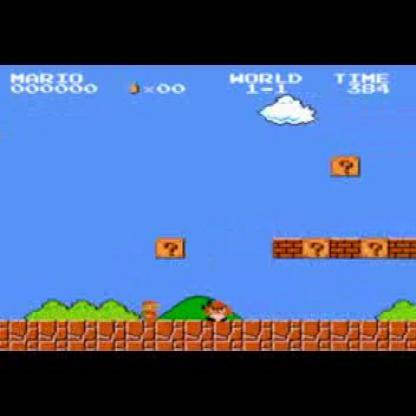Goomba: (204, 296, 232, 326)
